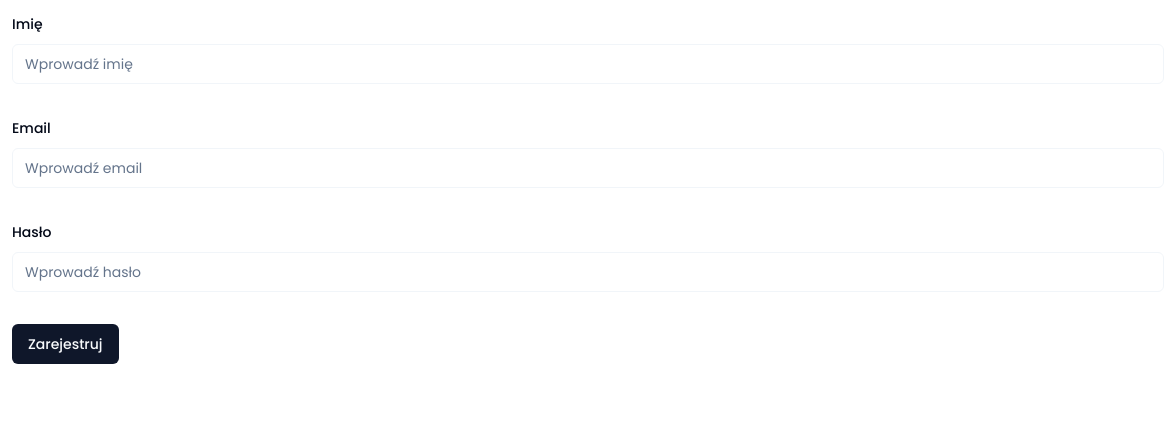
RegisterForm › should show error message when submited form is invalid
Step 1. Type "example_test" into the field with placeholder "Wprowadź imię" → (588, 64), box [12,44,1164,84]
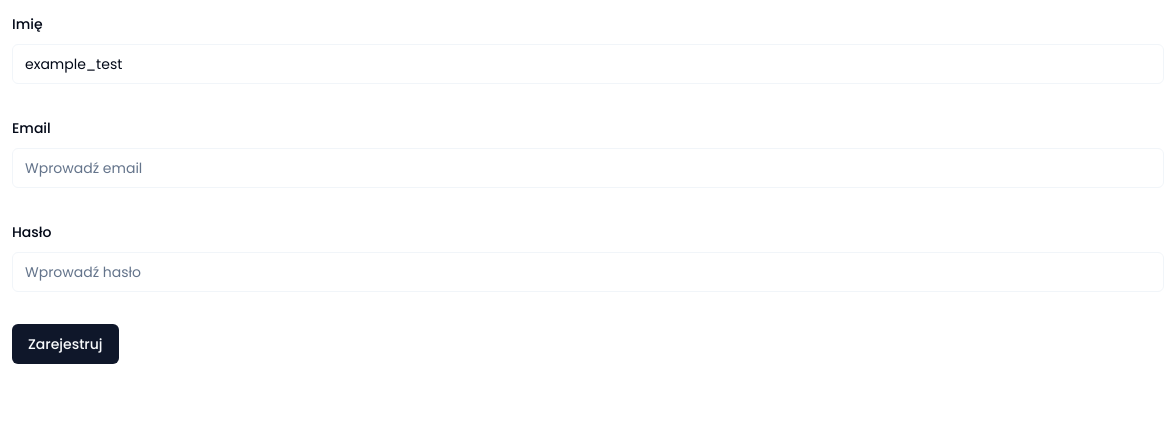
Step 2. Type "invalid-email" into the field with placeholder "Wprowadź email" → (588, 168), box [12,148,1164,188]
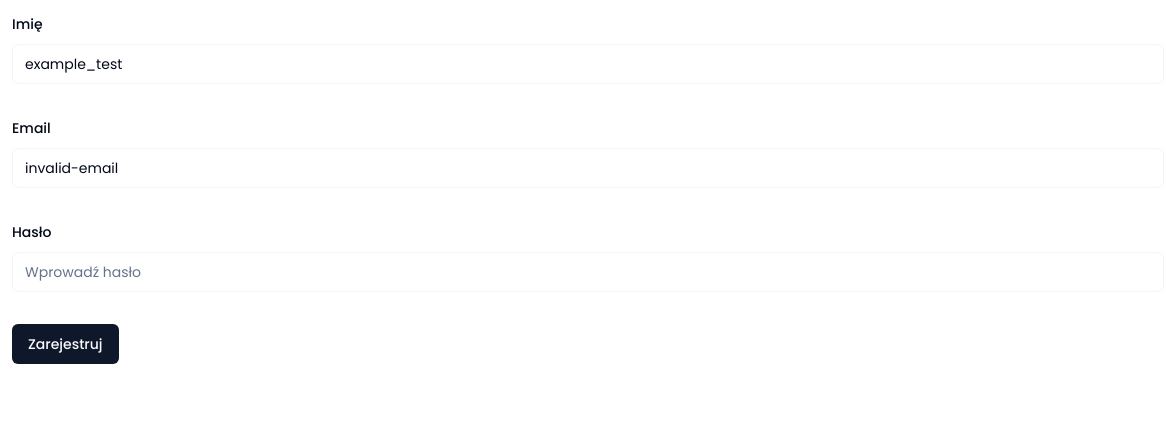
Step 3. Type "12345" into the password field with placeholder "Wprowadź hasło" → (588, 272), box [12,252,1164,292]
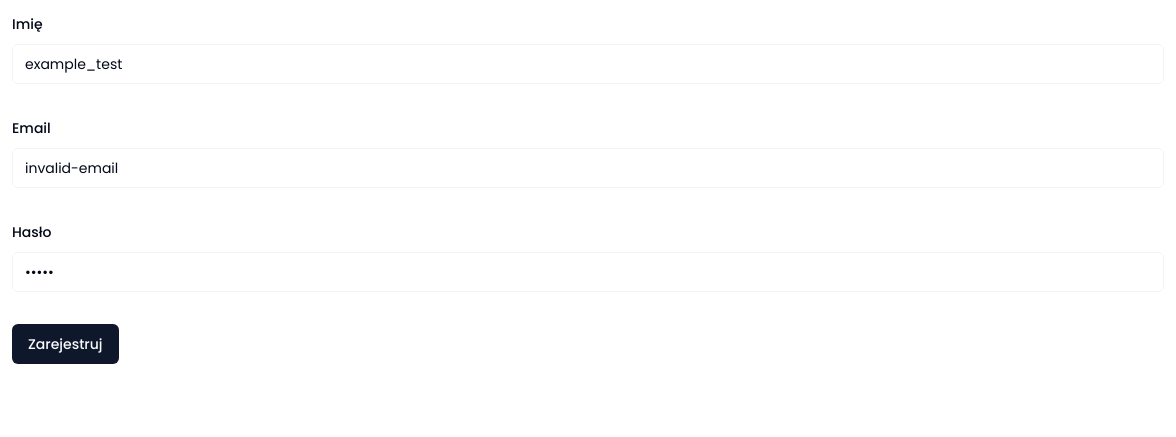
Step 4. Click the button "Zarejestruj" → click(65, 344), box [12,324,118,364]
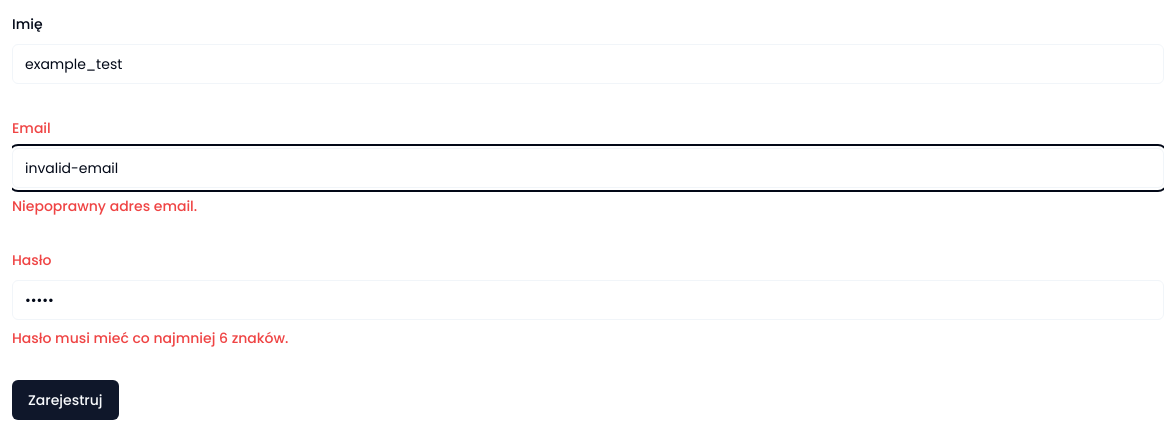
Check: the text "Niepoprawny adres email." is shown, box [12,196,197,216]
Check: the text "Hasło musi mieć co najmniej 6 znaków." is shown, box [12,328,288,348]
